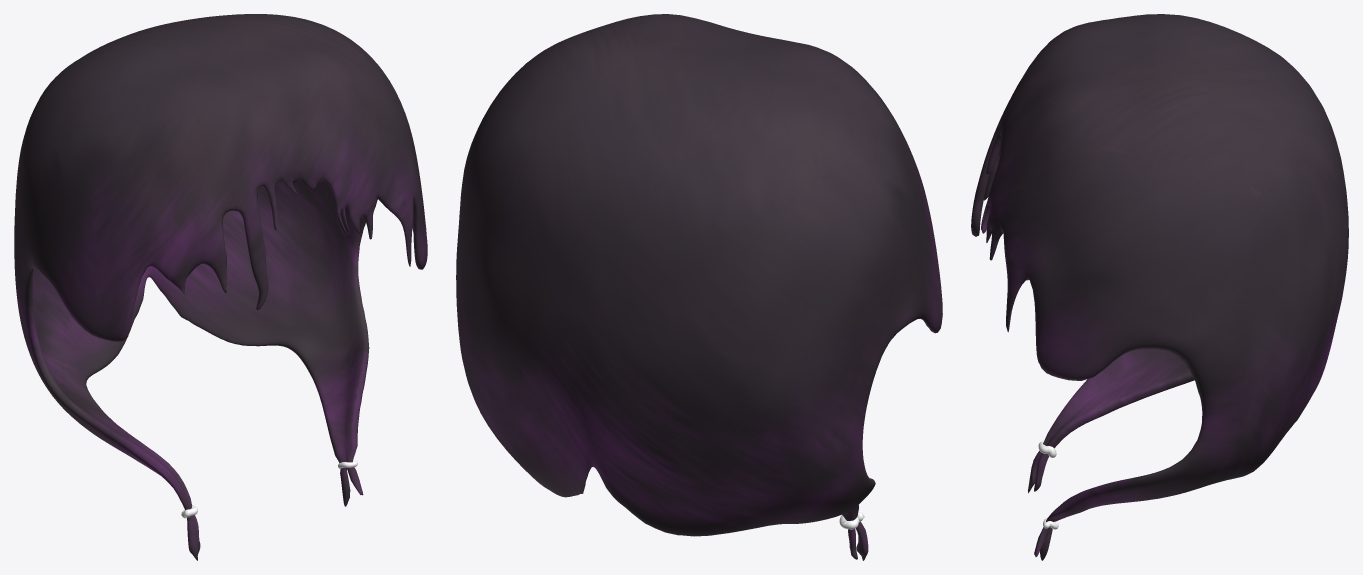
File: Braid_Frosted_Purple.glb
The picture shows the model from 3 angles, left to right: view 1: azimuth 30°, elevation 25°; view 2: azimuth 150°, elevation 25°; view 3: azimuth 270°, elevation 25°; orthographic projection. The views are drawn at different scales.
Visible parts, largest first — view 1: Braid_Frosted_Purple; view 2: Braid_Frosted_Purple; view 3: Braid_Frosted_Purple.
Boxes of the visible parts, left/top/right/bottom form: Braid_Frosted_Purple: left=14, top=14, right=427, bottom=560; Braid_Frosted_Purple: left=456, top=14, right=942, bottom=560; Braid_Frosted_Purple: left=971, top=14, right=1348, bottom=560.
Size of the model in its own units: 0.936 by 1.11 by 0.791.
2 materials, 1 textured.
